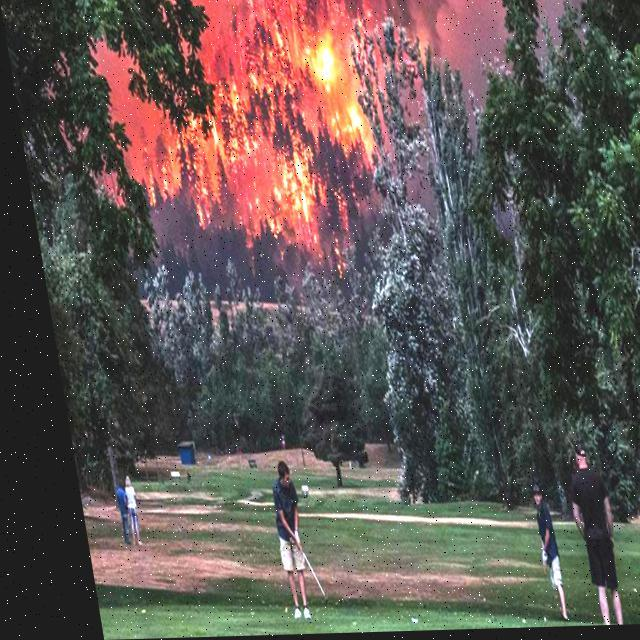Fire: (150, 0, 379, 224)
